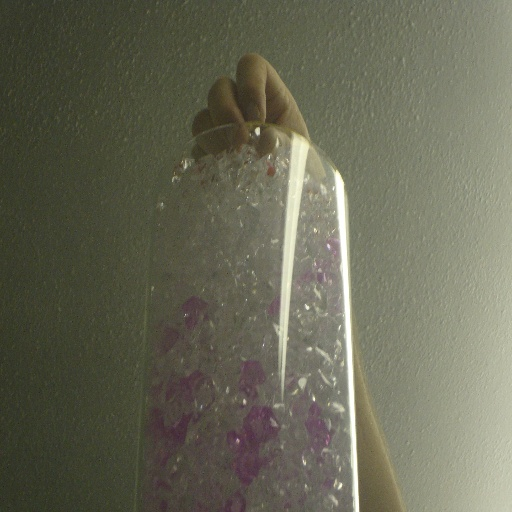hand: (197, 44, 319, 158)
